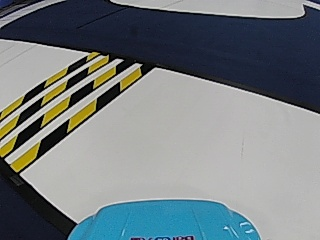bump: (6, 67, 95, 155)
